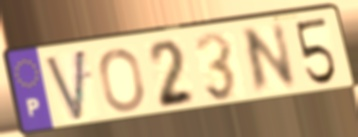2: (146, 37, 198, 111)
3: (193, 29, 240, 104)
5: (292, 15, 338, 88)
N: (240, 20, 300, 98)
O: (97, 46, 148, 114)
V: (42, 46, 88, 125)
